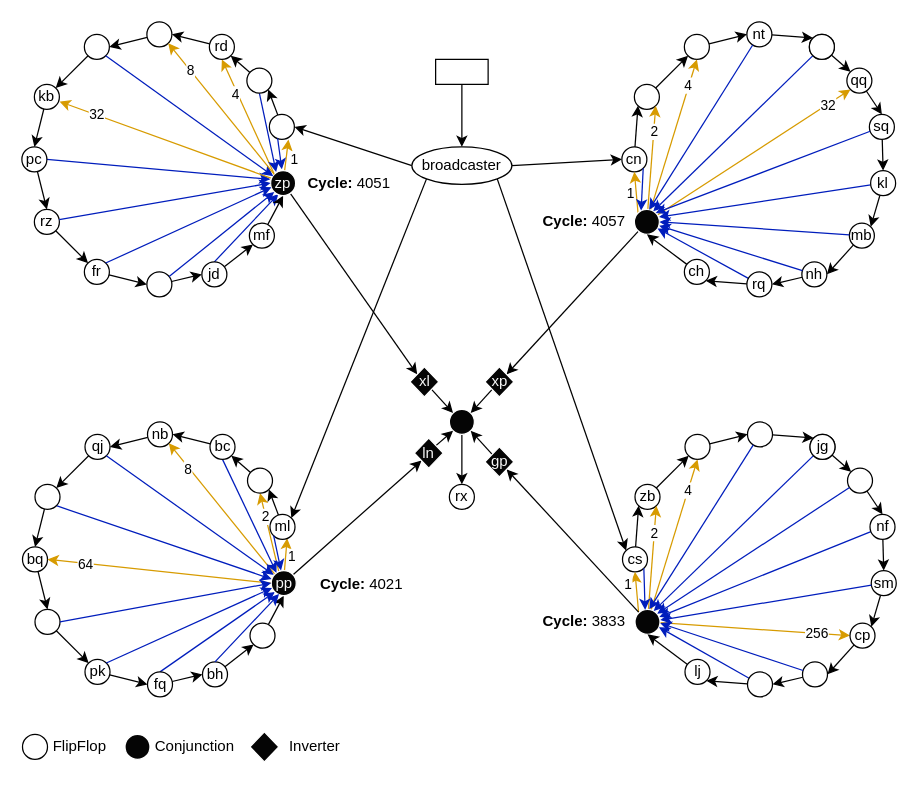
The diagram is 919 pixels wide and 788 high, and some of its shapes have lost their labels. The box of each missing label's shape, as (x1, y1, x2, y2) in pixels:
bj: (746, 671, 772, 697)
button: (434, 58, 488, 84)
df: (448, 408, 474, 434)
fd: (683, 33, 709, 59)
fl: (846, 467, 872, 493)
hc: (83, 33, 109, 59)
hd: (34, 483, 60, 509)
kk: (801, 661, 828, 687)
kq: (808, 33, 834, 59)
lk: (146, 21, 172, 47)
lv: (246, 67, 272, 93)
mr: (146, 271, 172, 297)
nd: (746, 421, 772, 447)
pr: (249, 622, 275, 648)
rg: (634, 608, 660, 634)
sj: (633, 208, 659, 234)
sn: (633, 83, 659, 109)
tb: (34, 608, 60, 634)
vl: (268, 113, 294, 139)
vz: (684, 433, 710, 459)
xt: (246, 467, 272, 493)
